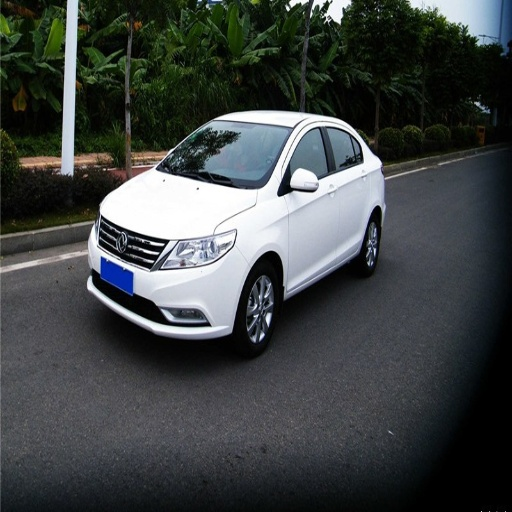front_bumper: (87, 220, 250, 337)
front_glass: (156, 120, 292, 188)
front_left_door: (282, 122, 340, 287)
